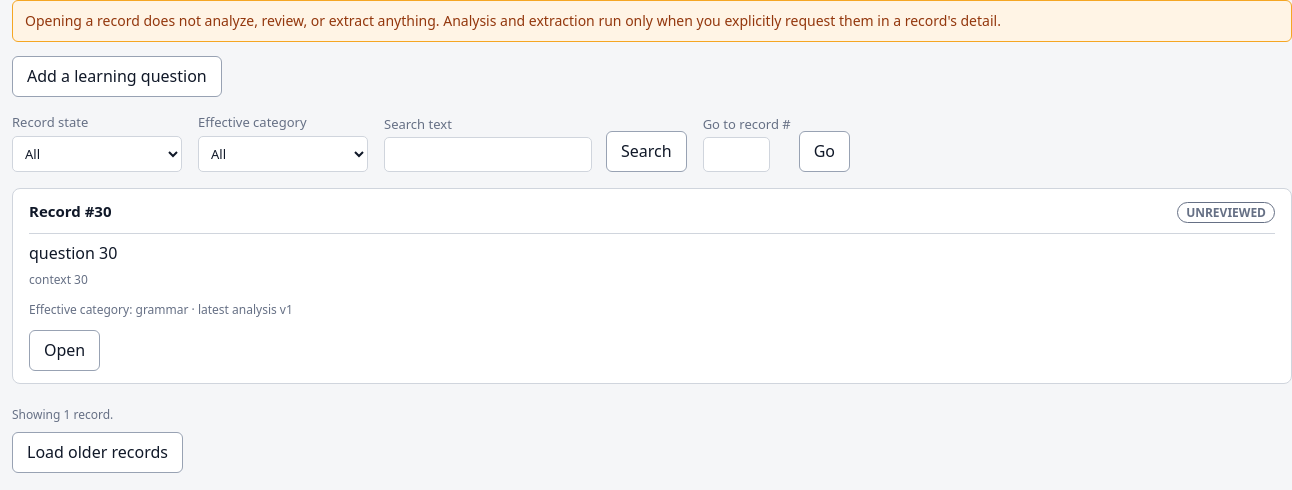
it: RecordsBrowser list, pagination, and filter › does not append an older page that was requested under a previous filter
The width and height of the screenshot is (1292, 490).
Step 1. Click the button "Load older records" → {"x": 98, "y": 452}, box left=12, top=432, right=183, bottom=473
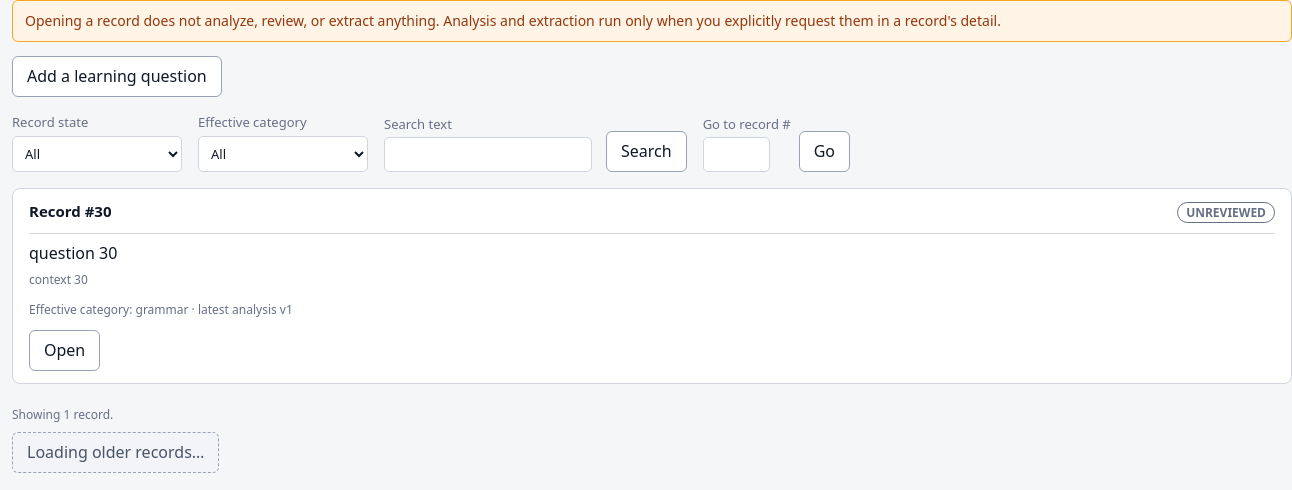
Step 2. Select "corrected" in the dropdown labelled "Record state" → {"x": 97, "y": 154}, box left=12, top=136, right=182, bottom=172
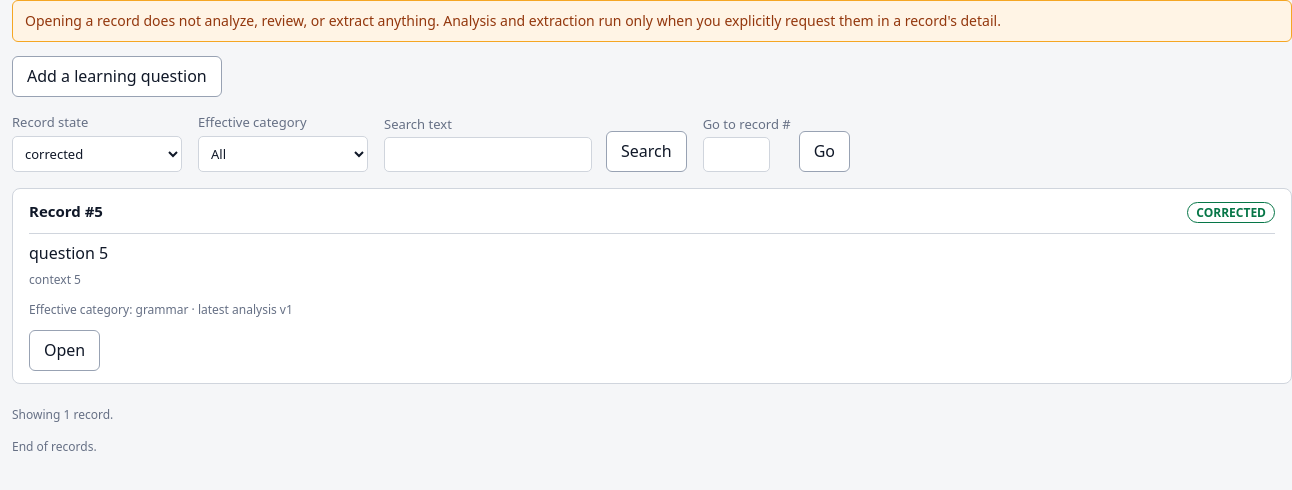
Expected: the text "Showing 1 record." is shown, left=12, top=406, right=113, bottom=424
Expected: the text "question 5" is shown, left=29, top=242, right=108, bottom=264
